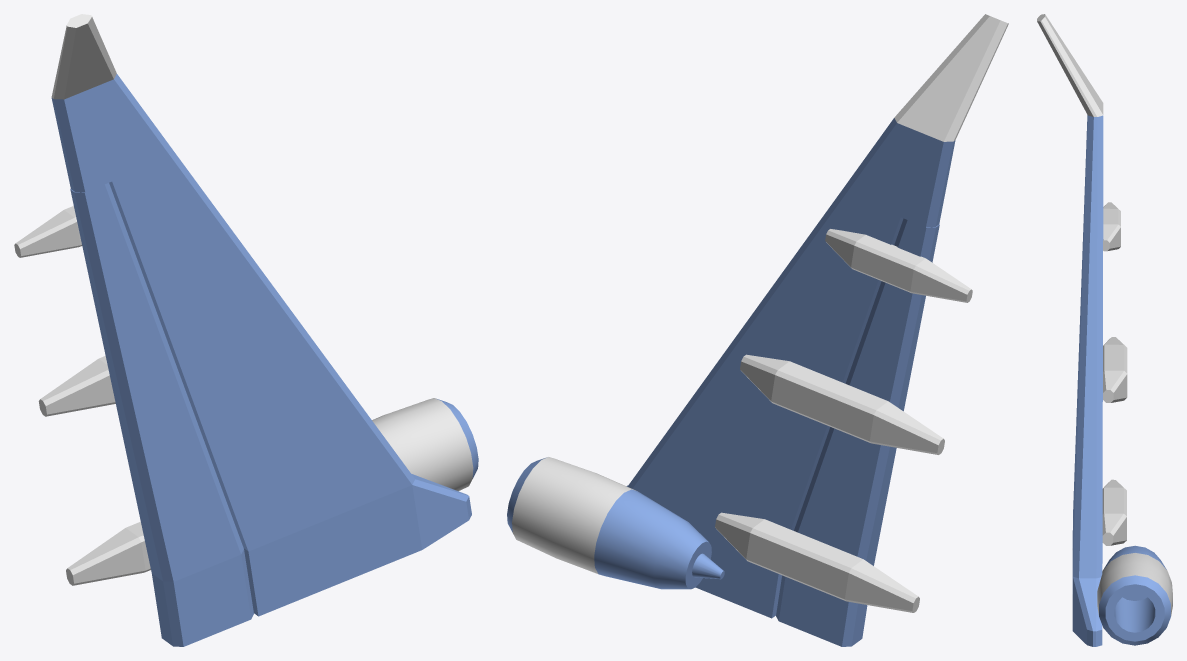
Rendered from SM_Obstacle_05.fbx.
3 views of the same model, side by side, from view 1: azimuth 30°, elevation 25°; view 2: azimuth 150°, elevation 25°; view 3: azimuth 270°, elevation 25° (orthographic). The views are drawn at different scales.
Visible parts, largest first — view 1: Cube.067; view 2: Cube.067; view 3: Cube.067.
Boxes of the visible parts, <box> form: Cube.067: <box>14,14,478,646</box>; Cube.067: <box>507,14,1008,646</box>; Cube.067: <box>1037,14,1172,646</box>.
Size of the model in its own units: 10.86 by 15.15 by 3.64.
